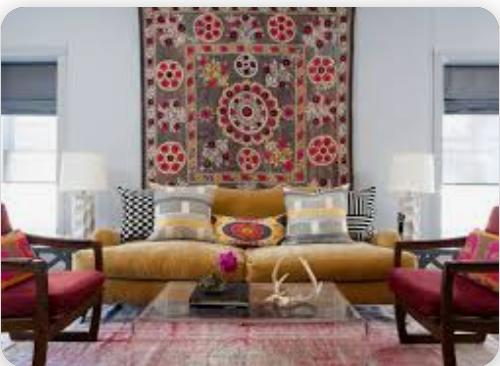carpet: (141, 9, 351, 188)
